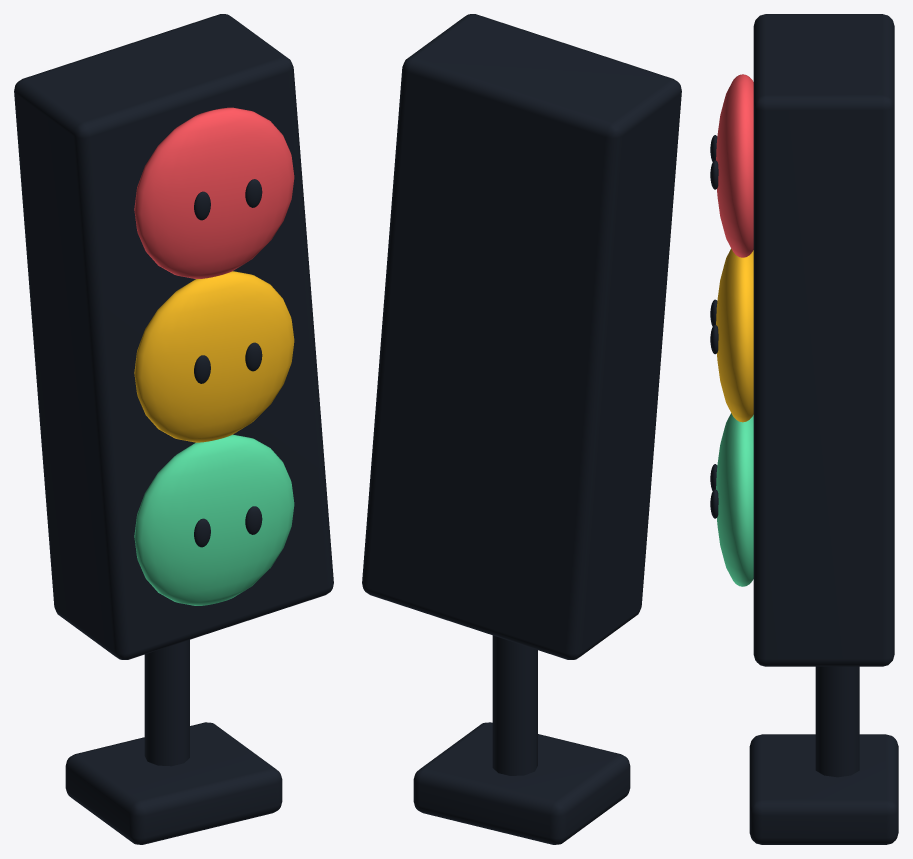
The model's file is signal.glb.
3 views of the same model, side by side, from view 1: azimuth 30°, elevation 25°; view 2: azimuth 150°, elevation 25°; view 3: azimuth 270°, elevation 25° (orthographic).
Visible parts, largest first — view 1: PG signal case, PG signal lamp, PG signal lamp.002, PG signal lamp.001, PG foot, PG pole; view 2: PG signal case, PG foot, PG pole; view 3: PG signal case, PG foot, PG signal lamp, PG signal lamp.002, PG signal lamp.001, PG pole.
Part boxes in pixels (x1=…): PG signal case: x1=14, y1=14, x2=333, y2=659; PG signal lamp: x1=134, y1=107, x2=294, y2=278; PG signal lamp.002: x1=134, y1=434, x2=294, y2=605; PG signal lamp.001: x1=134, y1=271, x2=294, y2=442; PG foot: x1=65, y1=722, x2=282, y2=844; PG pole: x1=144, y1=640, x2=189, y2=766; PG signal case: x1=362, y1=14, x2=681, y2=659; PG foot: x1=413, y1=722, x2=630, y2=844; PG pole: x1=492, y1=635, x2=537, y2=775; PG signal case: x1=753, y1=14, x2=894, y2=666; PG foot: x1=749, y1=734, x2=898, y2=844; PG signal lamp: x1=716, y1=74, x2=753, y2=257; PG signal lamp.002: x1=716, y1=413, x2=753, y2=586; PG signal lamp.001: x1=716, y1=248, x2=753, y2=422; PG pole: x1=815, y1=666, x2=859, y2=777.
Bounding box in the file's own units: 1.11 × 3.08 × 0.695.
